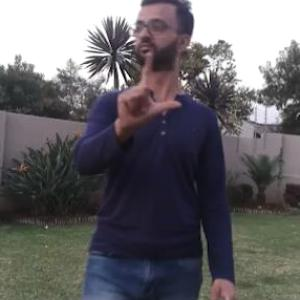land_hand: (111, 48, 184, 134)
